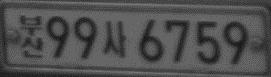5: (196, 19, 220, 64)
6: (138, 18, 163, 62)
7: (164, 19, 190, 62)
9: (223, 21, 248, 65), (73, 16, 97, 60), (46, 15, 69, 59)
부산_V: (19, 14, 44, 58)
사: (103, 20, 127, 59)
